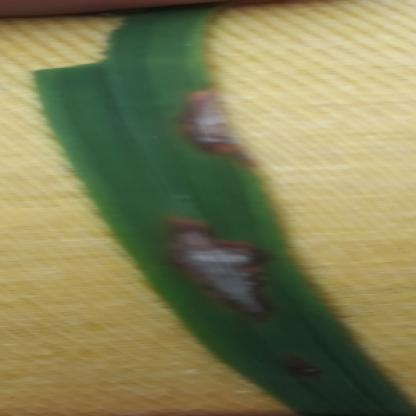Rice blast: (151, 188, 296, 334), (165, 66, 260, 167), (267, 353, 337, 398)
